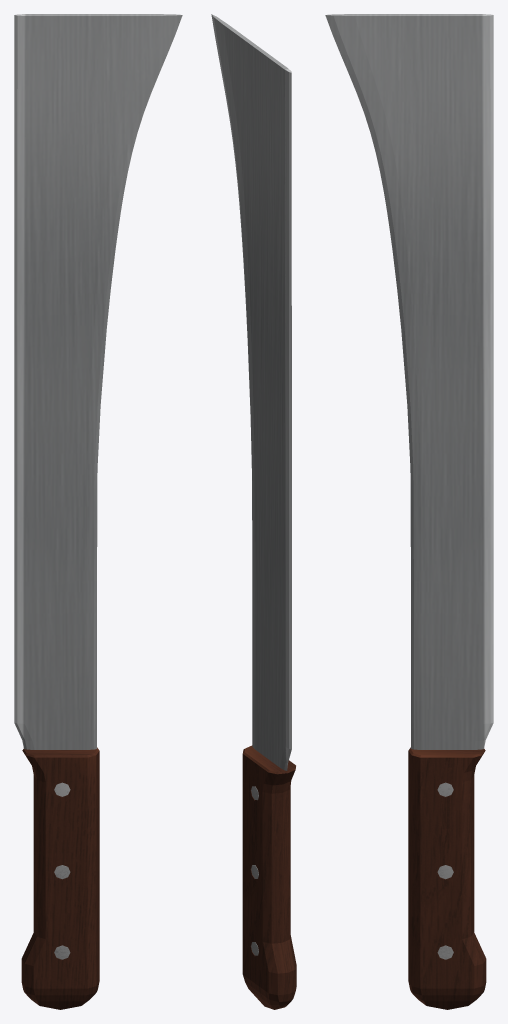
The model's file is 무기_마체테.fbx.
3 renders of one model, left to right at view 1: azimuth 90°, elevation 25°; view 2: azimuth 210°, elevation 25°; view 3: azimuth 270°, elevation 25°, orthographic. The views are drawn at different scales.
Visible parts, largest first — view 1: 마체테; view 2: 마체테; view 3: 마체테.
Part boxes in pixels (bbox=[...]): 마체테: bbox=[14, 14, 182, 1009]; 마체테: bbox=[211, 14, 296, 1009]; 마체테: bbox=[325, 14, 493, 1009].
Size of the model in its own units: 1.84 by 59.56 by 9.16.
